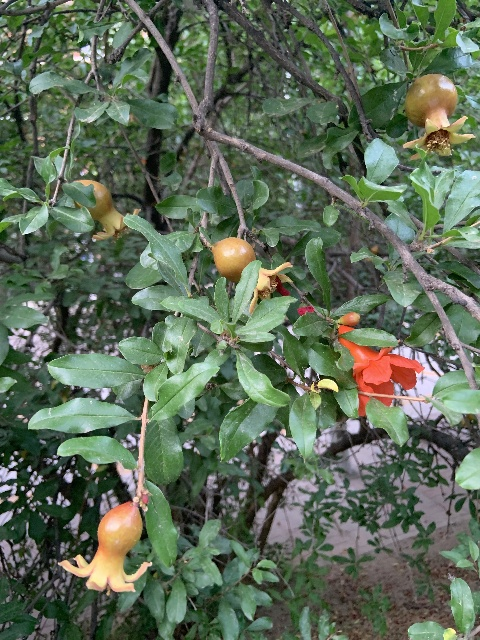bud: (338, 311, 360, 327)
early-fruit: (57, 501, 149, 594), (210, 236, 294, 314), (74, 180, 138, 242)
flower: (339, 330, 423, 416)
mid-growth: (400, 73, 475, 156)
